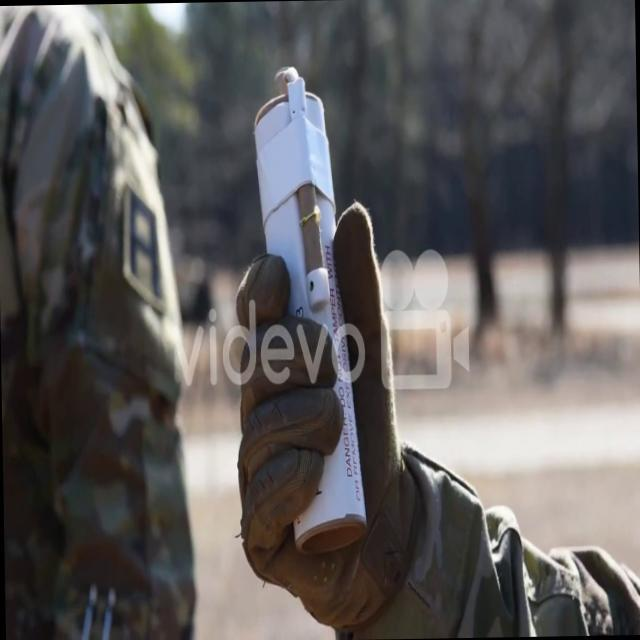grenade: (246, 59, 368, 552)
